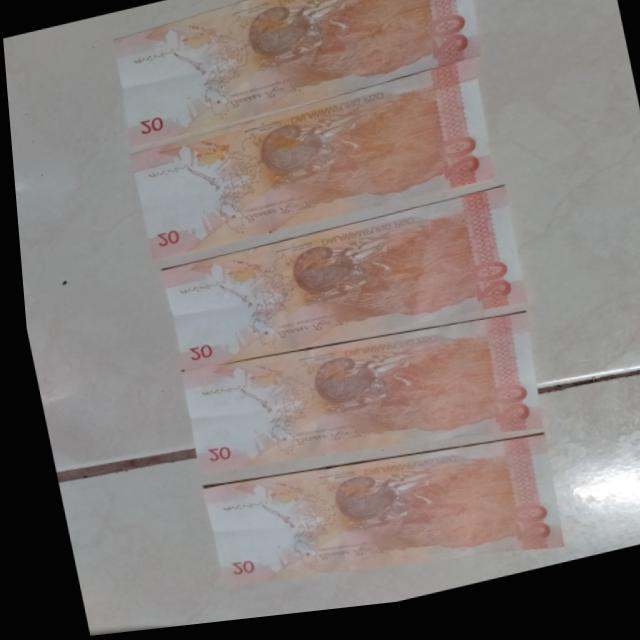20_civet: (238, 0, 333, 79)
20_civet_watermark: (209, 260, 270, 294)
